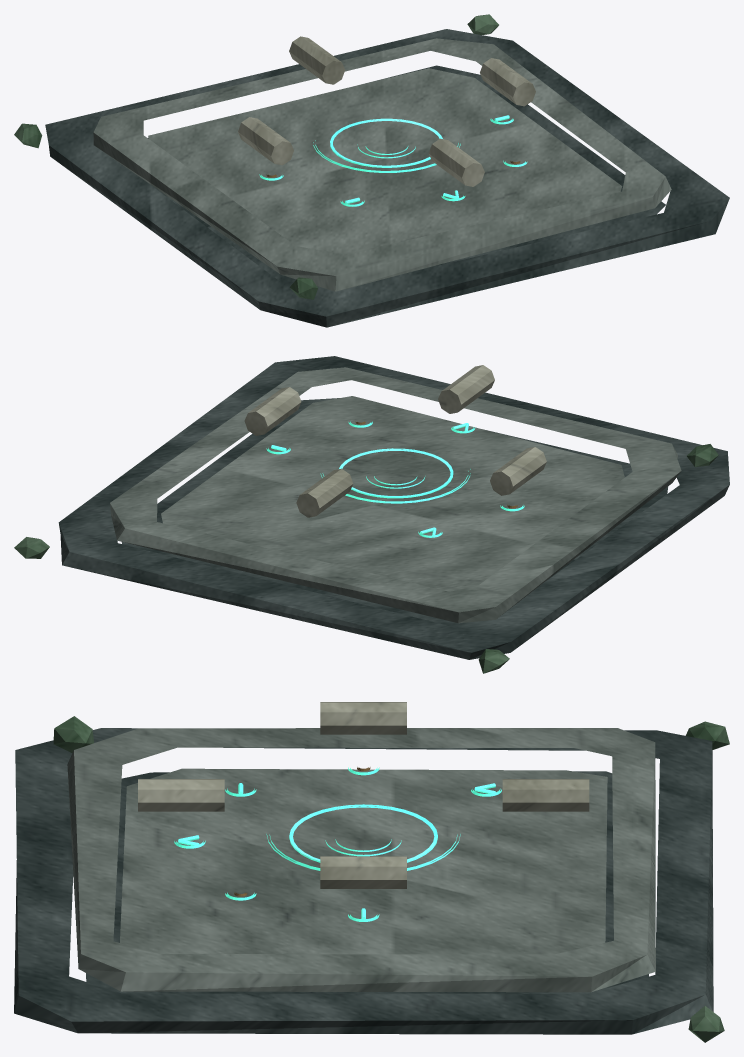
Rendered from 0573_rune_dais_23.glb.
3 views of the same model, one above another, from view 1: azimuth 30°, elevation 25°; view 2: azimuth 150°, elevation 25°; view 3: azimuth 270°, elevation 25° (orthographic). The views are drawn at different scales.
Parts seen in each view (by area): view 1: stone, stone_dark, stone_light, glow, moss; view 2: stone, stone_dark, stone_light, glow, moss; view 3: stone, stone_dark, stone_light, glow, moss.
Part boxes in pixels (x1,y1,x2,y2): stone: [93, 38, 671, 291]; stone_dark: [45, 29, 729, 327]; stone_light: [238, 36, 535, 186]; glow: [259, 115, 527, 206]; moss: [14, 14, 498, 299]; stone: [110, 367, 681, 623]; stone_dark: [58, 356, 729, 659]; stone_light: [244, 365, 546, 517]; glow: [266, 421, 524, 537]; moss: [14, 444, 718, 673]; stone: [67, 728, 655, 992]; stone_dark: [14, 728, 713, 1034]; stone_light: [138, 702, 589, 888]; glow: [174, 767, 501, 921]; moss: [53, 716, 729, 1042].
Bounding box in the file's own units: 4.16 × 0.7207 × 4.12.
6 materials, 6 textured.
